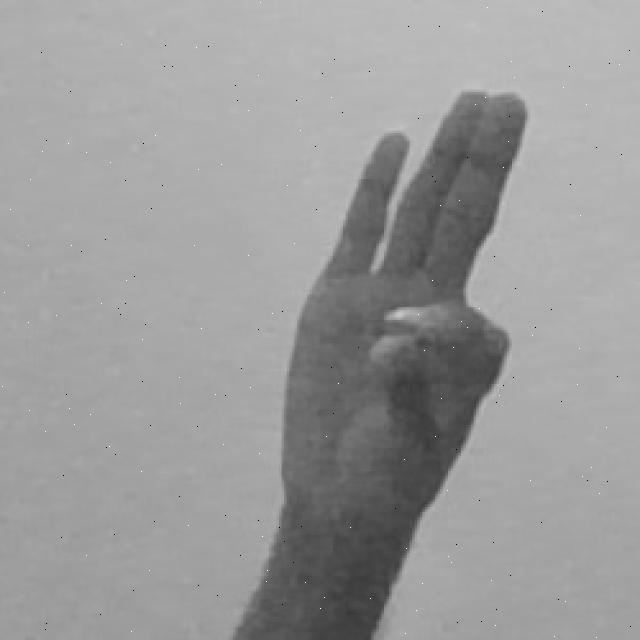F: (236, 91, 529, 640)
